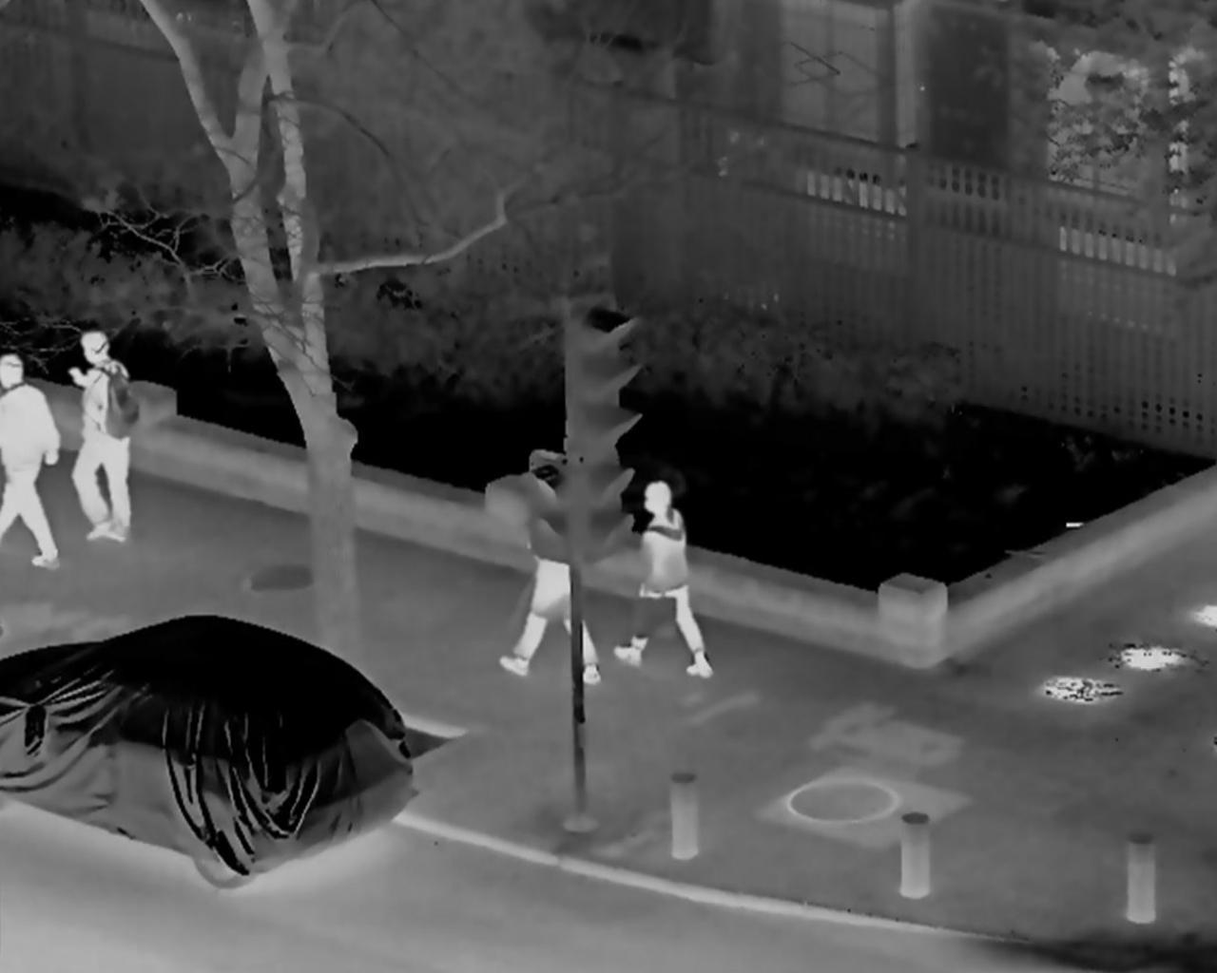person: (504, 478, 605, 689), (615, 479, 717, 681), (66, 334, 144, 542)
